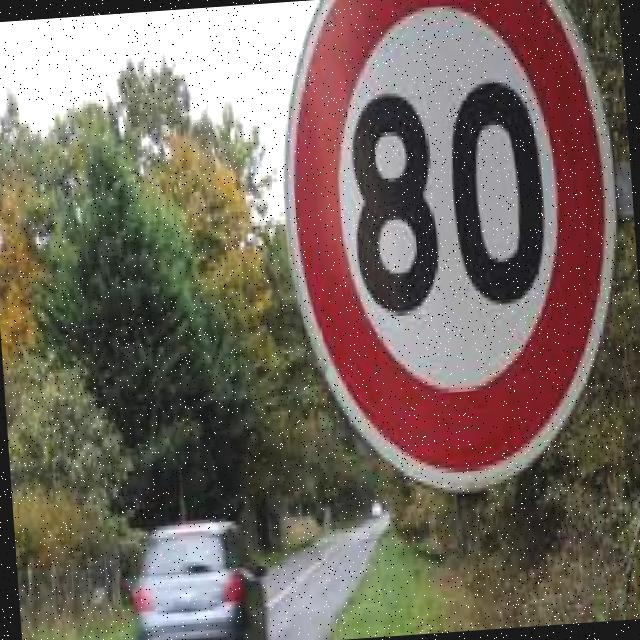Ograniczenie predkosci do 80: (326, 6, 572, 386)
